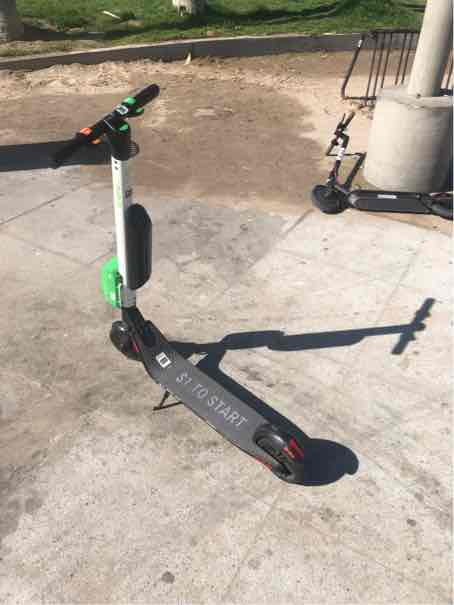scooter: (41, 77, 329, 502), (304, 104, 454, 234)
